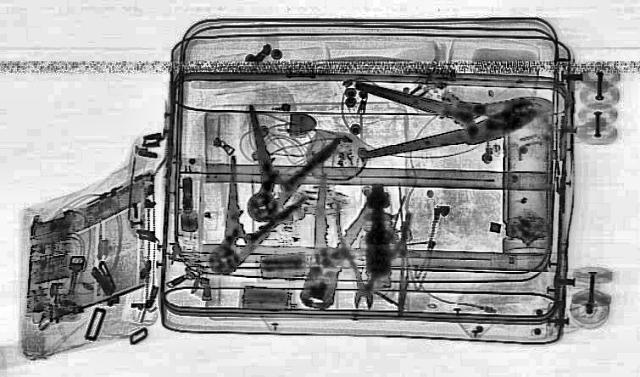Pliers: (162, 154, 328, 282), (334, 67, 546, 158), (205, 104, 348, 226), (278, 172, 386, 310), (322, 200, 413, 310)
